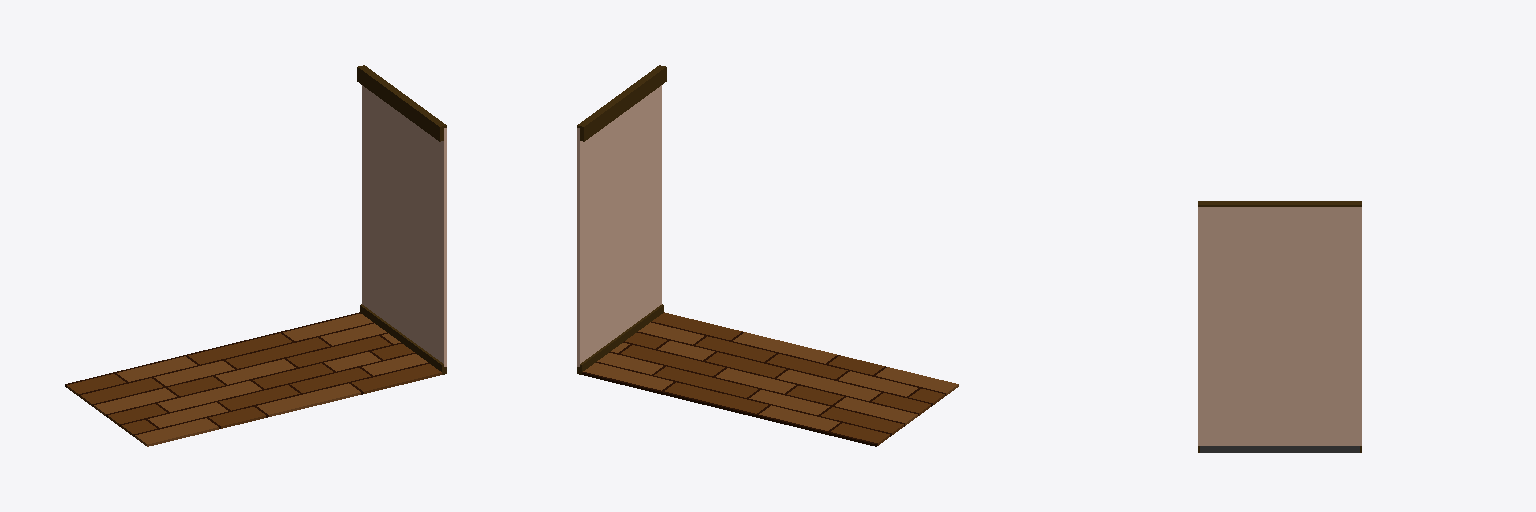
The picture shows the model from 3 angles: view 1: azimuth 30°, elevation 25°; view 2: azimuth 150°, elevation 25°; view 3: azimuth 270°, elevation 25°; orthographic projection.
Parts seen in each view (by area): view 1: object 1; view 2: object 1; view 3: object 1.
Boxes of the visible parts, x1,y1,x2,y2 form: object 1: [65, 65, 446, 446]; object 1: [577, 65, 958, 446]; object 1: [1198, 201, 1361, 452].
Size of the model in its own units: 12.6 by 10 by 6.
Materials: 1 (1 with a texture image).